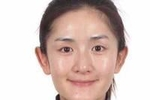unmask: (46, 28, 123, 99)
